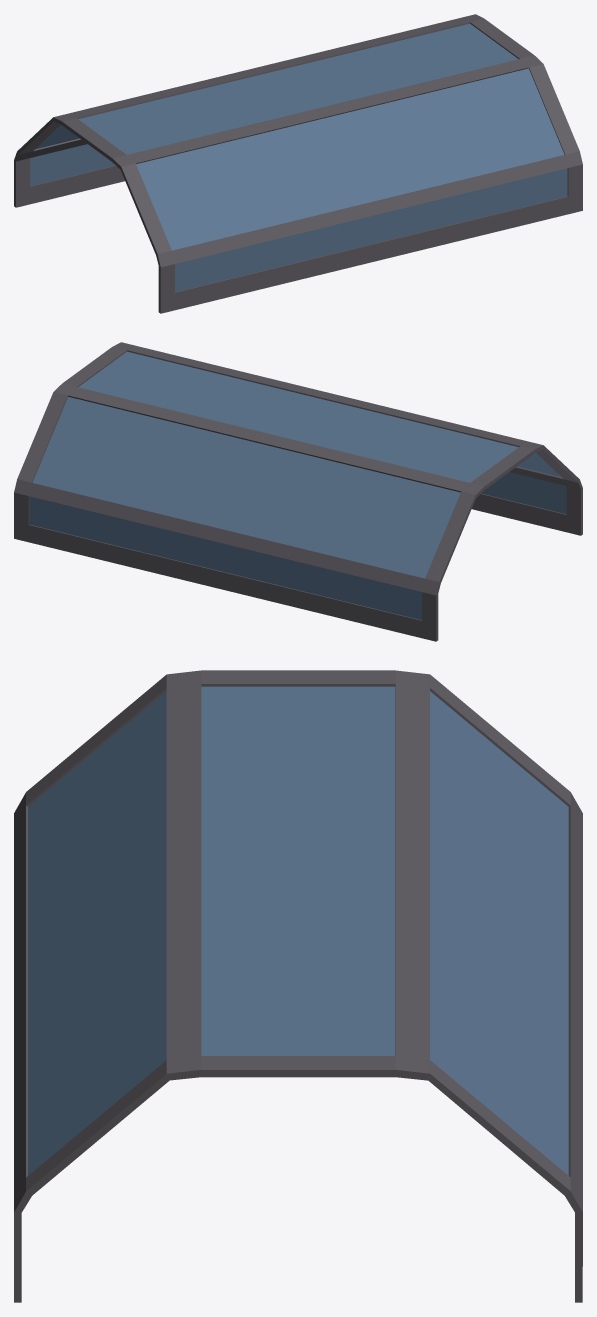
Rendered from SM_Props_Laboratory_01_Door_01.fbx.
3 renders of one model, top to bottom at view 1: azimuth 30°, elevation 25°; view 2: azimuth 150°, elevation 25°; view 3: azimuth 270°, elevation 25°, orthographic. The views are drawn at different scales.
Parts seen in each view (by area): view 1: SM_Props_Laboratory_01_Door_01; view 2: SM_Props_Laboratory_01_Door_01; view 3: SM_Props_Laboratory_01_Door_01.
Boxes of the visible parts, x1=… form: SM_Props_Laboratory_01_Door_01: x1=14, y1=14, x2=582, y2=313; SM_Props_Laboratory_01_Door_01: x1=14, y1=342, x2=582, y2=641; SM_Props_Laboratory_01_Door_01: x1=14, y1=670, x2=582, y2=1302.
Bounding box in the file's own units: 1.83 × 0.4968 × 1.1.
